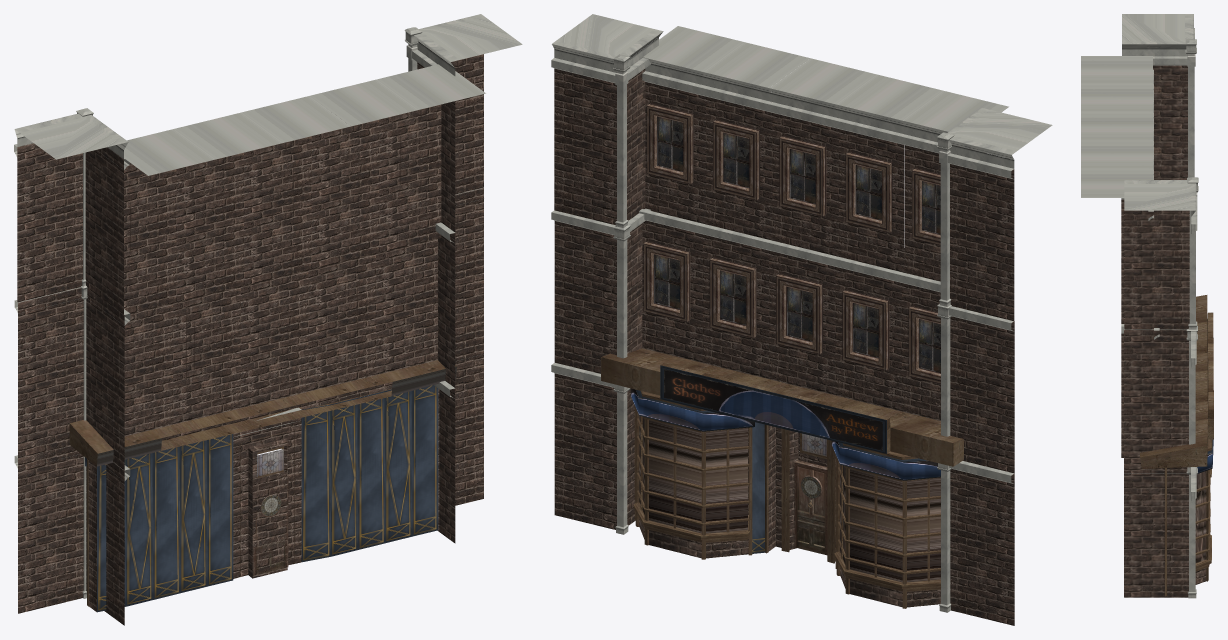
The model's file is clothes_shop.fbx.
The picture shows the model from 3 angles, left to right: view 1: azimuth 30°, elevation 25°; view 2: azimuth 150°, elevation 25°; view 3: azimuth 270°, elevation 25°; orthographic projection. The views are drawn at different scales.
Parts seen in each view (by area): view 1: Brick_wall_window_wood.003, Brick_wall.014, brick_wall_ugol.006, brick_wall_ugol.004; view 2: Brick_wall_window_wood.003, Brick_wall.014, brick_wall_ugol.004, brick_wall_ugol.006, glas; view 3: brick_wall_ugol.004, Brick_wall_window_wood.003, brick_wall_ugol.006, Brick_wall.014, glas.
Boxes of the visible parts, x1,y1,x2,y2 form: Brick_wall_window_wood.003: (124, 64, 485, 440); Brick_wall.014: (69, 360, 456, 612); brick_wall_ugol.006: (14, 108, 130, 625); brick_wall_ugol.004: (404, 14, 522, 543); Brick_wall_window_wood.003: (639, 26, 1008, 420); Brick_wall.014: (601, 348, 963, 608); brick_wall_ugol.004: (551, 14, 663, 534); brick_wall_ugol.006: (937, 108, 1052, 625); glas: (639, 416, 940, 582); brick_wall_ugol.004: (1124, 177, 1198, 598); Brick_wall_window_wood.003: (1081, 56, 1159, 339); brick_wall_ugol.006: (1121, 14, 1196, 457); Brick_wall.014: (1140, 295, 1213, 596); glas: (1195, 471, 1206, 562).
Size of the model in its own units: 1385 by 396 by 1372.
